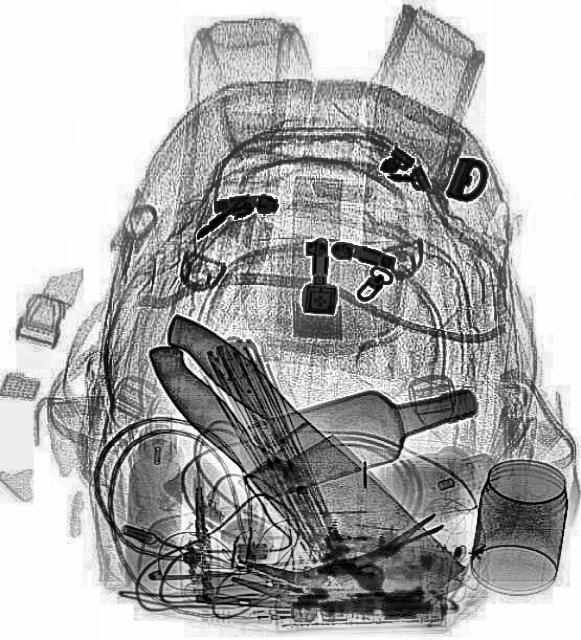Knife: (119, 300, 463, 638), (137, 298, 456, 638)
